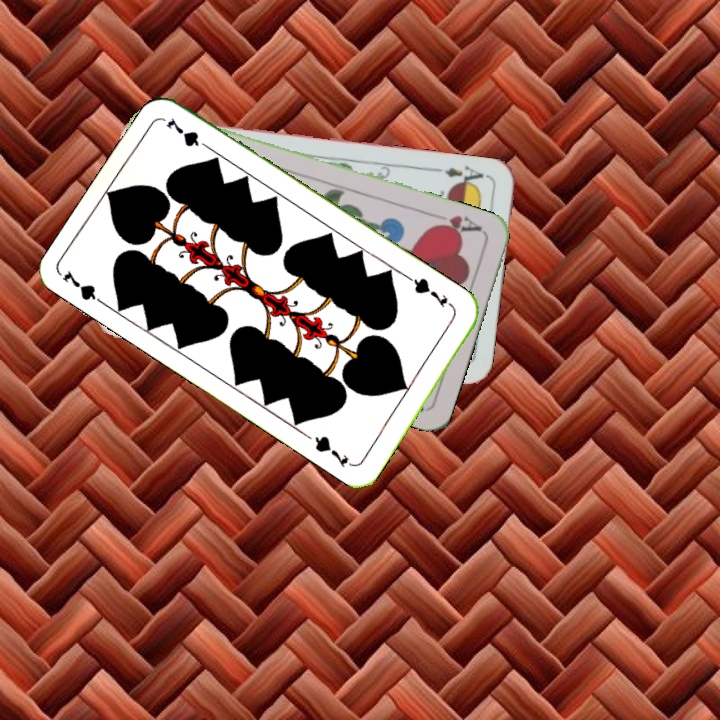EA: (432, 161, 491, 190)
G7: (58, 266, 112, 311), (405, 273, 458, 313)
HA: (428, 209, 485, 238)
